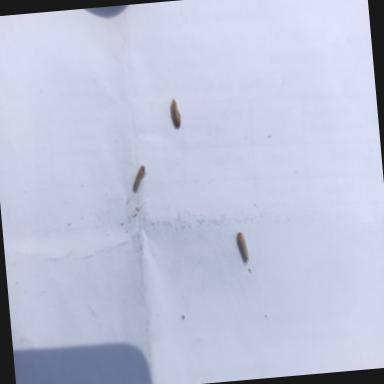pbw: (235, 231, 250, 266), (131, 165, 149, 194), (169, 98, 182, 130)
